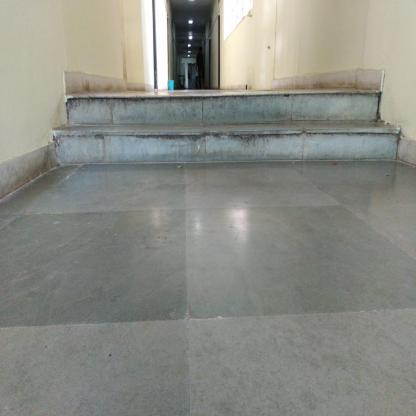stairs: (68, 88, 381, 169)
